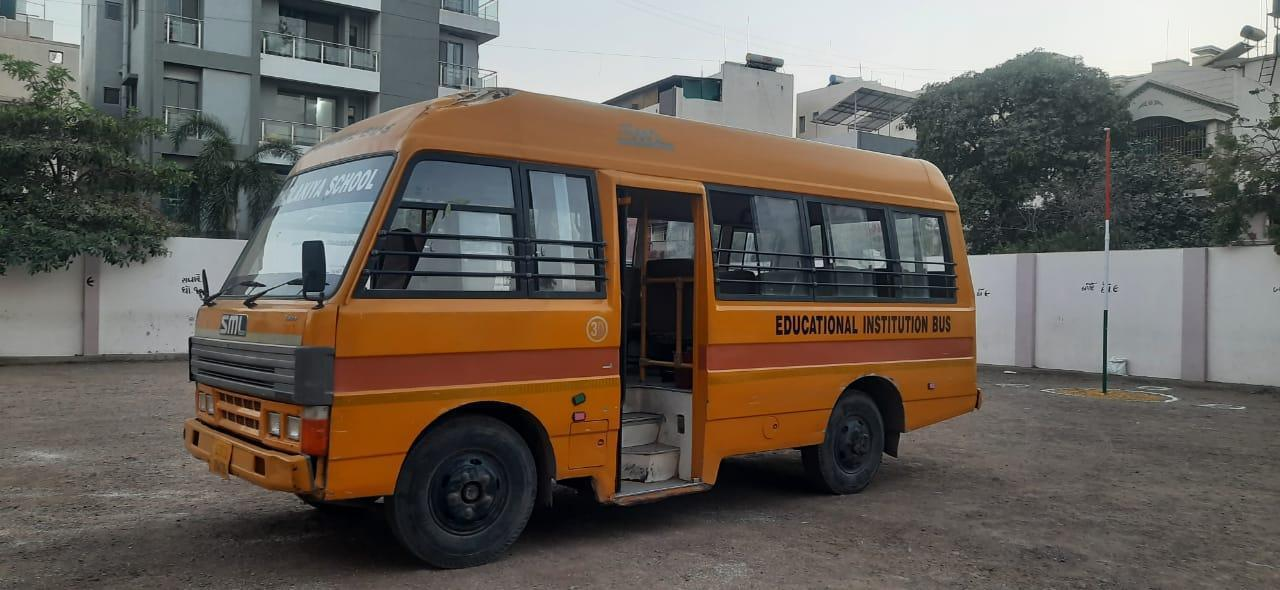Bus: (169, 81, 1031, 573)
